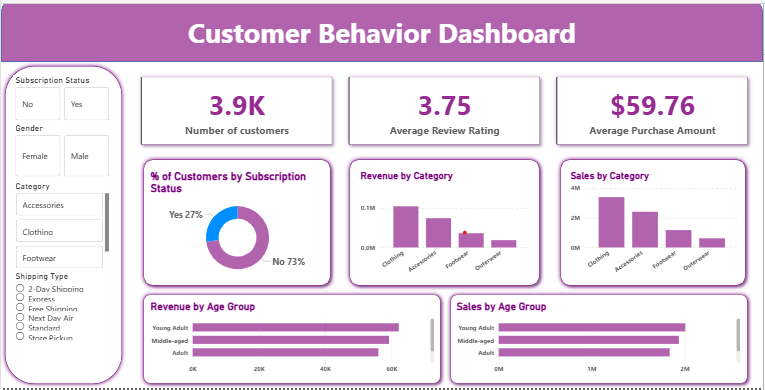

What the dashboard file says about the page in this screenshot:
{"tool":"powerbi","page":{"name":"Page 1","canvas":[1500,820],"ordinal":0},"visuals":[{"type":"cardVisual","fields":{"Data":["public customer.Number of customers","public customer.Average Review Rating","public customer.Average Purchase Amount"]},"box":[246.1,179.1,1253.9,192.9],"z":0},{"type":"shape","box":[0,51.2,1500,128],"z":1000},{"type":"textbox","box":[0,78.7,1500,88.6],"z":2000},{"type":"shape","box":[271.7,362.2,385.8,265.7],"z":3000},{"type":"shape","box":[677.2,362.2,391.7,265.7],"z":4000},{"type":"shape","box":[1092.5,362.2,381.9,265.7],"z":5000},{"type":"donutChart","title":"% of Customers by Subscription Status","fields":{"Category":["public customer.subscription_status"],"Y":["Count(public customer.customer_id)"]},"box":[289.4,391.7,352.4,218.5],"z":6000},{"type":"clusteredColumnChart","title":"Revenue by Category","fields":{"Y":["Sum(public customer.purchase_amount)"],"Category":["public customer.category"]},"box":[702.8,391.7,344.5,218.5],"z":7000},{"type":"clusteredColumnChart","title":"Sales by Category","fields":{"Y":["Sum(public customer.customer_id)"],"Category":["public customer.category"]},"box":[1116.1,391.7,342.5,218.5],"z":8000},{"type":"shape","box":[0,179.1,246.1,641.7],"z":9000},{"type":"advancedSlicerVisual","fields":{"Values":["public customer.subscription_status"]},"box":[23.6,204.7,194.9,94.5],"z":10000},{"type":"advancedSlicerVisual","fields":{"Values":["public customer.gender"]},"box":[23.6,299.2,194.9,110.2],"z":11000},{"type":"advancedSlicerVisual","fields":{"Values":["public customer.category"]},"box":[23.6,413.4,194.9,177.2],"z":11001},{"type":"listSlicer","fields":{"Values":["public customer.shipping_type"]},"box":[23.6,590.6,194.9,183.1],"z":11002},{"type":"shape","box":[271.7,628,602.4,192.9],"z":11004},{"type":"clusteredBarChart","title":"Revenue by Age Group","fields":{"Y":["Sum(public customer.purchase_amount)"],"Category":["public customer.age_group"]},"box":[289.4,647.6,568.9,153.5],"z":11005},{"type":"shape","box":[876,628,602.4,192.9],"z":11006},{"type":"clusteredBarChart","title":"Sales by Age Group","fields":{"Y":["Sum(public customer.customer_id)"],"Category":["public customer.age_group"]},"box":[891.7,647.6,568.9,153.5],"z":11007}]}

Visuals, with their boxes in screenshot pixels (x1, y1, x2, y2):
cardVisual - public customer.Number of customers x public customer.Average Review Rating: {"x1": 124, "y1": 65, "x2": 757, "y2": 162}
shape: {"x1": 0, "y1": 0, "x2": 757, "y2": 65}
textbox: {"x1": 0, "y1": 14, "x2": 757, "y2": 59}
shape: {"x1": 137, "y1": 157, "x2": 332, "y2": 291}
shape: {"x1": 342, "y1": 157, "x2": 540, "y2": 291}
shape: {"x1": 551, "y1": 157, "x2": 744, "y2": 291}
"% of Customers by Subscription Status" donutChart: {"x1": 146, "y1": 172, "x2": 324, "y2": 282}
"Revenue by Category" clusteredColumnChart: {"x1": 355, "y1": 172, "x2": 529, "y2": 282}
"Sales by Category" clusteredColumnChart: {"x1": 563, "y1": 172, "x2": 736, "y2": 282}
shape: {"x1": 0, "y1": 65, "x2": 124, "y2": 388}
advancedSlicerVisual - public customer.subscription_status: {"x1": 12, "y1": 77, "x2": 110, "y2": 125}
advancedSlicerVisual - public customer.gender: {"x1": 12, "y1": 125, "x2": 110, "y2": 181}
advancedSlicerVisual - public customer.category: {"x1": 12, "y1": 183, "x2": 110, "y2": 272}
listSlicer - public customer.shipping_type: {"x1": 12, "y1": 272, "x2": 110, "y2": 365}
shape: {"x1": 137, "y1": 291, "x2": 441, "y2": 388}
"Revenue by Age Group" clusteredBarChart: {"x1": 146, "y1": 301, "x2": 433, "y2": 378}
shape: {"x1": 442, "y1": 291, "x2": 746, "y2": 388}
"Sales by Age Group" clusteredBarChart: {"x1": 450, "y1": 301, "x2": 737, "y2": 378}
